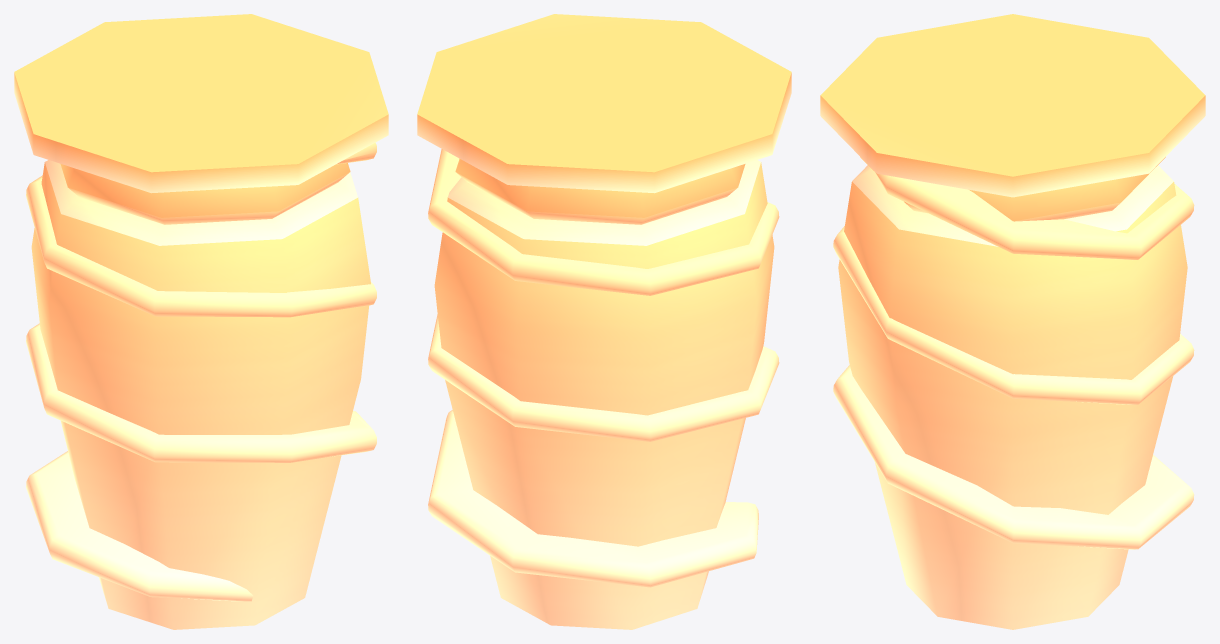
Rendered from wood_grip_108_004.glb.
3 renders of one model, left to right at view 1: azimuth 30°, elevation 25°; view 2: azimuth 150°, elevation 25°; view 3: azimuth 270°, elevation 25°, orthographic.
Visible parts, largest first — view 1: wood_grip_108.004; view 2: wood_grip_108.004; view 3: wood_grip_108.004.
Part boxes in pixels (x1=…): wood_grip_108.004: x1=14, y1=14, x2=388, y2=629; wood_grip_108.004: x1=417, y1=14, x2=791, y2=629; wood_grip_108.004: x1=820, y1=14, x2=1205, y2=629.
Size of the model in its own units: 2.25 by 3.15 by 2.25.
1 material, 1 textured.
